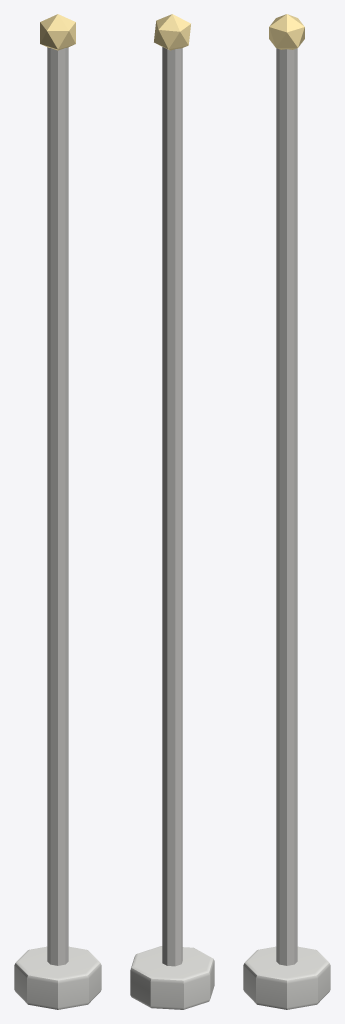
The model's file is FlagPole.fbx.
The picture shows the model from 3 angles, left to right: view 1: azimuth 90°, elevation 25°; view 2: azimuth 150°, elevation 25°; view 3: azimuth 270°, elevation 25°; orthographic projection.
Parts seen in each view (by area): view 1: FlagPole; view 2: FlagPole; view 3: FlagPole.
Part boxes in pixels (x1=…): FlagPole: x1=14, y1=14, x2=101, y2=1009; FlagPole: x1=130, y1=14, x2=214, y2=1009; FlagPole: x1=243, y1=14, x2=330, y2=1009.
Bounding box in the file's own units: 0.5 × 6.17 × 0.5.
